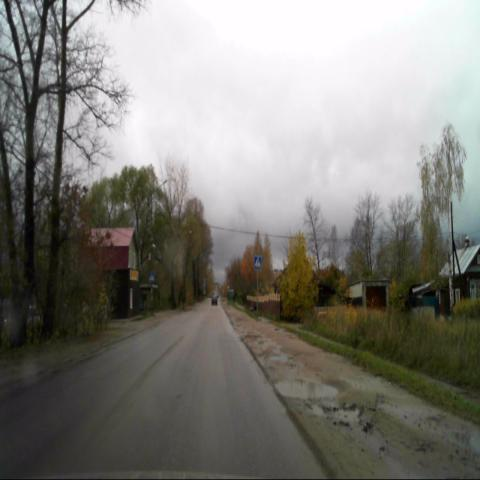5_19_1: (253, 254, 262, 270), (148, 270, 155, 283)
